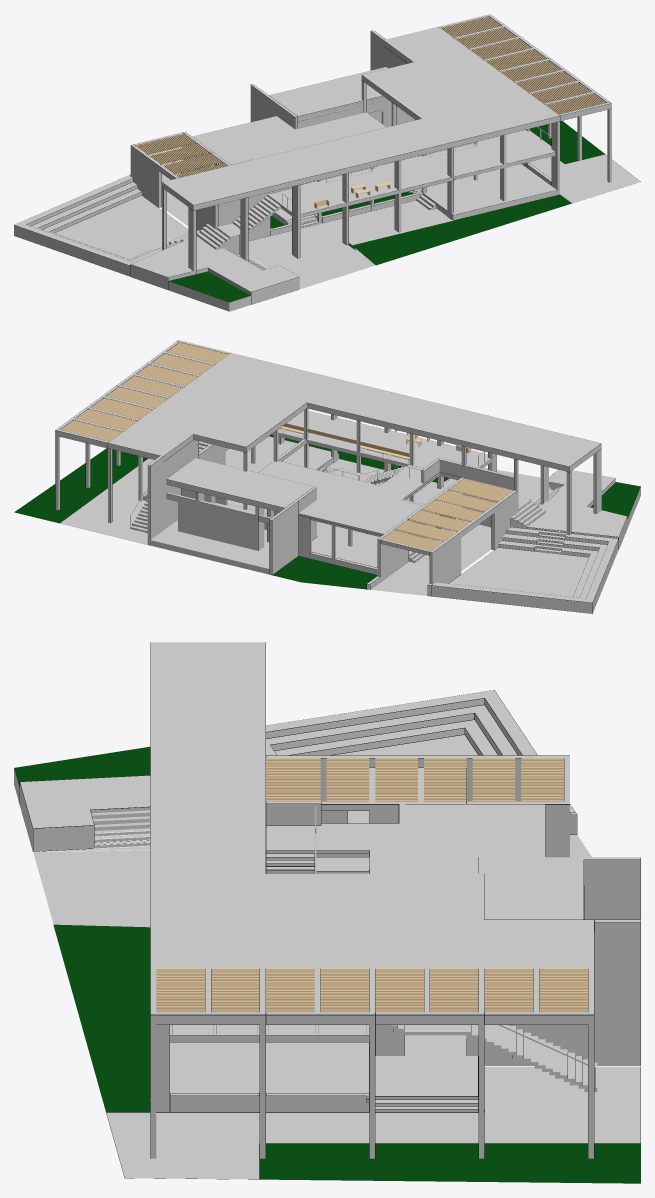
Rendered from canteen_borders.gltf.
3 renders of one model, top to bottom at view 1: azimuth 30°, elevation 25°; view 2: azimuth 150°, elevation 25°; view 3: azimuth 270°, elevation 25°, orthographic. The views are drawn at different scales.
Parts seen in each view (by area): view 1: group_105, group_1, group_82, group_108, group_155, group_0.008, group_0.039, group_32, group_0.024, group_37, group_106, group_0.023 (+18 smaller); view 2: group_105, group_1, group_155, group_82, group_32, group_0.008, group_144, group_0.032, group_0.024, group_37, group_106, group_0.007 (+14 smaller); view 3: group_105, group_0.024, group_1, group_0.008, group_0.032, group_155, group_0.039, group_108, group_37, group_32, instance_9.003, instance_9 (+14 smaller).
Part boxes in pixels (x1,y1,x2,y2): group_105: (162,27,559,210); group_1: (14,175,299,304); group_82: (267,130,555,218); group_108: (226,201,452,289); group_155: (192,112,386,184); group_0.008: (272,153,559,225); group_0.039: (348,194,571,265); group_32: (269,66,387,121); group_0.024: (522,154,640,203); group_37: (297,30,415,128); group_106: (129,144,213,230); group_0.023: (168,271,250,302); group_105: (108,353,601,472); group_1: (431,469,627,613); group_155: (258,460,439,535); group_82: (199,410,494,480); group_32: (166,458,313,512); group_0.008: (143,436,425,567); group_144: (166,492,264,550); group_0.032: (14,448,147,523); group_0.024: (60,458,153,544); group_37: (147,440,227,545); group_106: (427,490,516,596); group_0.007: (150,520,269,574); group_105: (150,642,594,968); group_0.024: (106,1066,640,1179); group_1: (19,690,575,851); group_0.008: (150,1035,478,1112); group_0.032: (259,1143,640,1183); group_155: (266,804,545,873); group_0.039: (53,924,150,1112); group_108: (33,810,150,927); group_37: (466,919,640,1065); group_32: (478,859,583,919); instance_9.003: (156,968,375,1158); instance_9: (375,968,594,1158).
Bounding box in the file's own units: 45.58 × 6.6 × 25.5.
